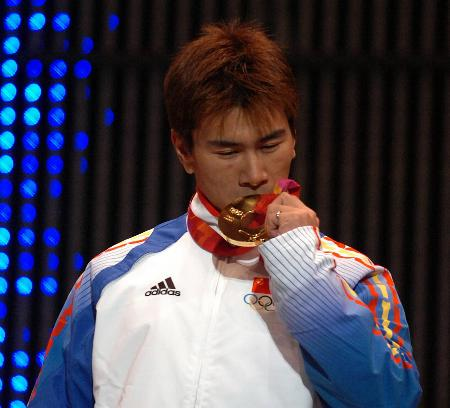face: (192, 93, 294, 229)
